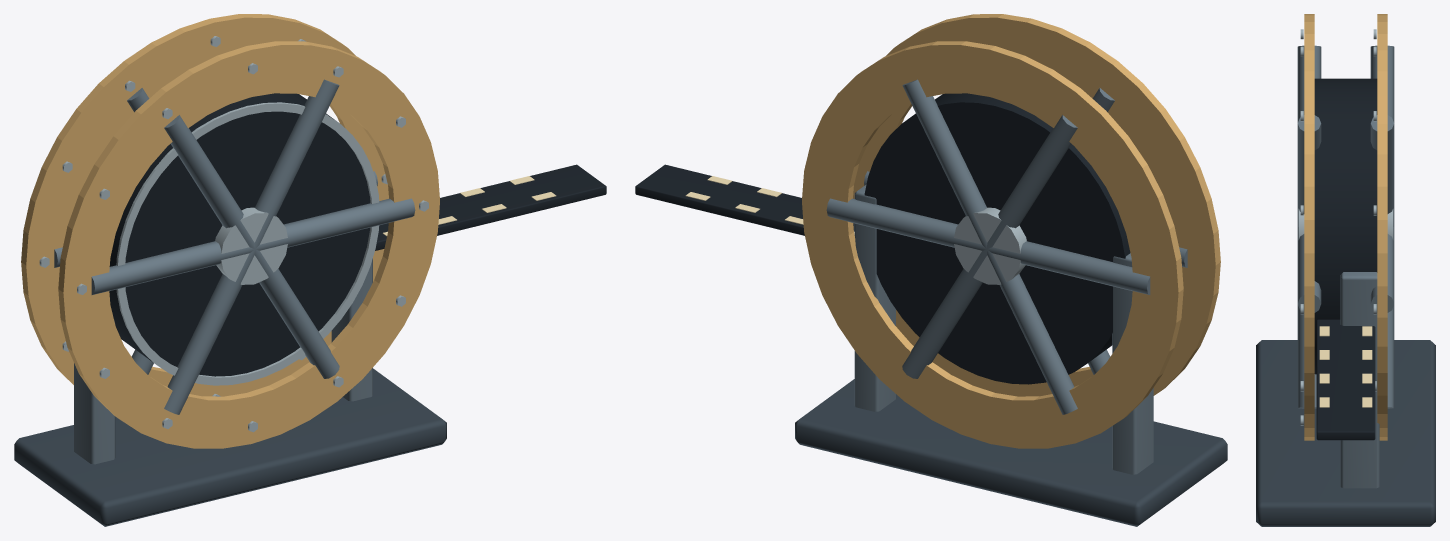
Rendered from nyanisyarud-camera-film-reel.glb.
3 views of the same model, side by side, from view 1: azimuth 30°, elevation 25°; view 2: azimuth 150°, elevation 25°; view 3: azimuth 270°, elevation 25° (orthographic).
Parts seen in each view (by area): view 1: ReelFlange_Rim.001, RolledFilm, ReelFoundation, ReelFlange_Rim, ReelFlange.001_edge, ReelPivot_steel, FilmTail, film-reel_edge, ReelFlange_Hub.001, ReelFlange_edge; view 2: ReelFlange_Rim, RolledFilm, ReelFoundation, ReelFlange_Rim.001, ReelFlange_edge, film-reel_edge, FilmTail, ReelFlange_Hub, ReelFlange.001_edge; view 3: ReelFoundation, RolledFilm, FilmTail, ReelFlange_Rim.001, ReelFlange_Rim, film-reel_edge, ReelFlange.001_edge, ReelFlange_edge, film-reel_cream, ReelPivot_steel.
Boxes of the visible parts, x1,y1,x2,y2 form: ReelFlange_Rim.001: (58, 41, 439, 448); RolledFilm: (109, 93, 370, 376); ReelFoundation: (14, 368, 446, 526); ReelFlange_Rim: (21, 14, 388, 396); ReelFlange.001_edge: (91, 79, 415, 414); ReelPivot_steel: (39, 36, 428, 432); FilmTail: (375, 164, 606, 250); film-reel_edge: (74, 258, 372, 464); ReelFlange_Hub.001: (215, 207, 287, 284); ReelFlange_edge: (54, 88, 377, 374); ReelFlange_Rim: (802, 41, 1183, 448); RolledFilm: (864, 93, 1130, 384); ReelFoundation: (795, 379, 1227, 526); ReelFlange_Rim.001: (853, 14, 1220, 396); ReelFlange_edge: (826, 79, 1150, 414); film-reel_edge: (854, 184, 1153, 474); FilmTail: (635, 164, 854, 235); ReelFlange_Hub: (954, 207, 1026, 284); ReelFlange.001_edge: (864, 88, 1187, 374); ReelFoundation: (1256, 340, 1435, 526); RolledFilm: (1314, 78, 1377, 374); FilmTail: (1316, 319, 1375, 440); ReelFlange_Rim.001: (1304, 14, 1314, 440); ReelFlange_Rim: (1377, 14, 1387, 440); film-reel_edge: (1340, 272, 1379, 488); ReelFlange.001_edge: (1297, 45, 1321, 408); ReelFlange_edge: (1370, 45, 1394, 408); film-reel_cream: (1319, 326, 1372, 407); ReelPivot_steel: (1300, 29, 1376, 425).
Size of the model in its own units: 11.1 by 8.1 by 3.2.
